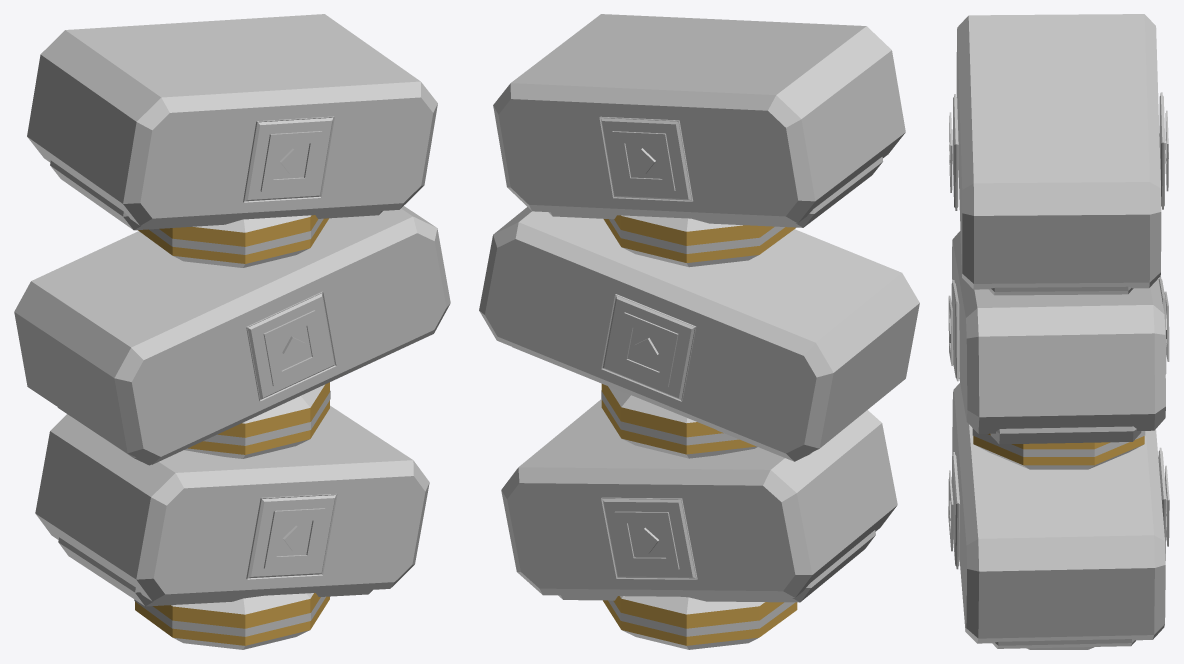
The model's file is wand_motion_07.obj.
3 views of the same model, side by side, from view 1: azimuth 30°, elevation 25°; view 2: azimuth 150°, elevation 25°; view 3: azimuth 270°, elevation 25° (orthographic). The views are drawn at different scales.
Parts seen in each view (by area): view 1: chamfered_seal_tablet_2, chamfered_seal_tablet_1, chamfered_seal_tablet_0, tablet_spacer_0, tablet_spacer_2, inset_rune_socket_5, inset_rune_socket_3, inset_rune_socket_1, tablet_spacer_1, seal_shadow_base_0, seal_shadow_base_2, tablet_spacer_dark_seam_0 (+2 smaller); view 2: chamfered_seal_tablet_2, chamfered_seal_tablet_1, chamfered_seal_tablet_0, tablet_spacer_0, tablet_spacer_2, inset_rune_socket_0, inset_rune_socket_2, inset_rune_socket_4, tablet_spacer_1, seal_shadow_base_2, seal_shadow_base_0, tablet_spacer_dark_seam_0 (+2 smaller); view 3: chamfered_seal_tablet_2, chamfered_seal_tablet_0, chamfered_seal_tablet_1, tablet_spacer_1, seal_shadow_base_1, tablet_spacer_dark_seam_1, seal_shadow_base_2, seal_shadow_base_0, inset_rune_socket_1, inset_rune_socket_5, inset_rune_socket_3, inset_rune_socket_4 (+1 smaller).
Boxes of the visible parts, x1,y1,x2,y2 form: chamfered_seal_tablet_2: (27,14,437,225); chamfered_seal_tablet_1: (14,206,450,464); chamfered_seal_tablet_0: (35,405,429,601); tablet_spacer_0: (135,593,329,649); tablet_spacer_2: (138,215,328,267); inset_rune_socket_5: (243,116,334,202); inset_rune_socket_3: (246,291,336,401); inset_rune_socket_1: (246,494,337,579); tablet_spacer_1: (184,382,329,458); seal_shadow_base_0: (58,537,372,606); seal_shadow_base_2: (50,160,382,230); tablet_spacer_dark_seam_0: (134,596,325,636); chamfered_seal_tablet_2: (493,14,905,223); chamfered_seal_tablet_1: (479,207,919,460); chamfered_seal_tablet_0: (501,399,897,597); tablet_spacer_0: (603,596,797,649); tablet_spacer_2: (603,215,795,267); inset_rune_socket_0: (601,497,697,579); inset_rune_socket_2: (601,294,696,401); inset_rune_socket_4: (599,116,693,201); tablet_spacer_1: (601,384,757,458); seal_shadow_base_2: (548,157,883,227); seal_shadow_base_0: (558,530,875,602); tablet_spacer_dark_seam_0: (608,600,795,636); chamfered_seal_tablet_2: (956,14,1161,289); chamfered_seal_tablet_0: (952,383,1165,643); chamfered_seal_tablet_1: (952,231,1165,433); tablet_spacer_1: (973,433,1144,469); seal_shadow_base_1: (990,426,1141,444); tablet_spacer_dark_seam_1: (972,428,1145,456); seal_shadow_base_2: (989,286,1133,295); seal_shadow_base_0: (992,639,1135,648); inset_rune_socket_1: (951,452,960,569); inset_rune_socket_5: (952,94,958,210); inset_rune_socket_3: (951,280,959,381); inset_rune_socket_4: (1159,92,1165,209).
Size of the model in its own units: 0.1991 by 0.3148 by 0.1147.
